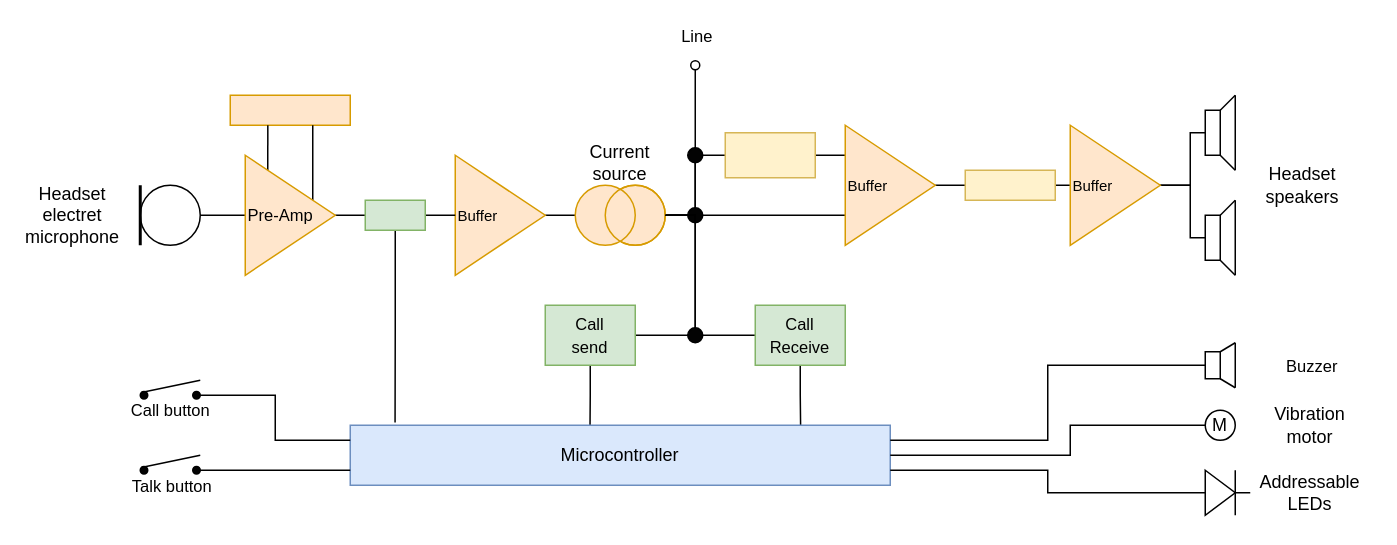
Some shapes in this 1397 by 545 pixel diagram are drawn without their labels. Here are the shapes that lost their labels. From the top down, the centre of each, then its label:
the point at 289,109: Compressor
the point at 769,154: Sidetone Adjustment
the point at 1009,184: Volume
the point at 394,214: Mute
